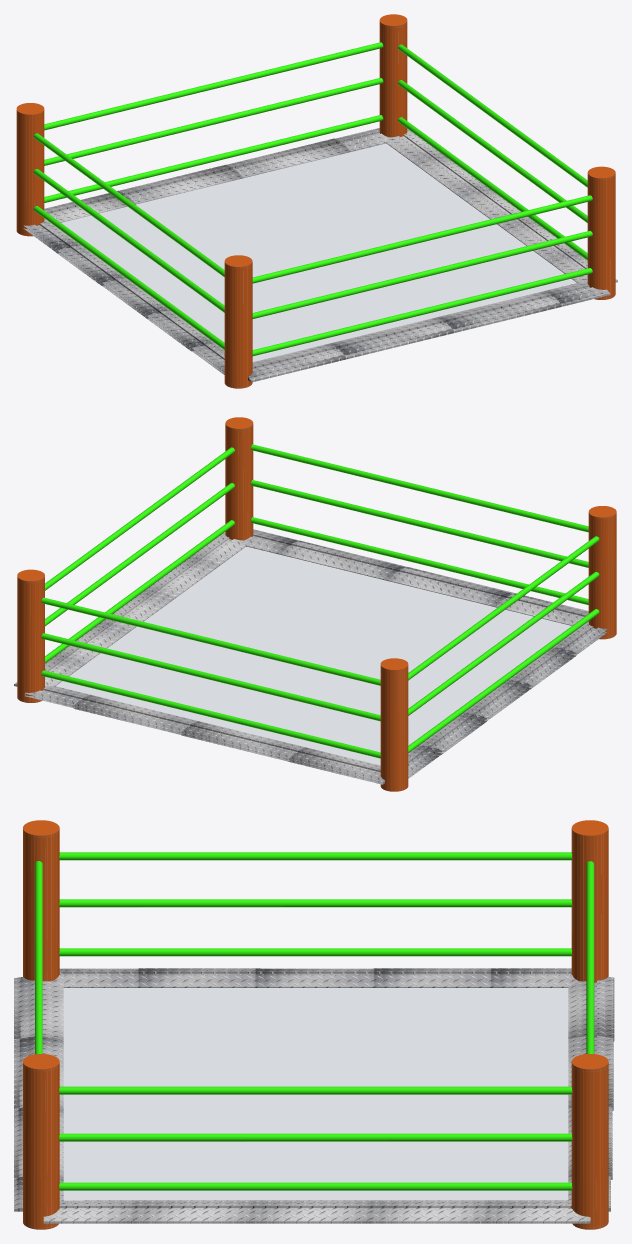
File: Ring2.0.fbx
The picture shows the model from 3 angles, top to bottom: view 1: azimuth 30°, elevation 25°; view 2: azimuth 150°, elevation 25°; view 3: azimuth 270°, elevation 25°; orthographic projection. The views are drawn at different scales.
Parts seen in each view (by area): view 1: Cube, Cube.003, Cylinder.007, Cylinder.001; view 2: Cube, Cube.003, Cylinder.007, Cylinder.001; view 3: Cube, Cube.003, Cylinder.007, Cylinder.001.
Boxes of the visible parts, x1,y1,x2,y2 form: Cube: (61, 143, 576, 361); Cube.003: (23, 128, 617, 382); Cylinder.007: (33, 42, 592, 356); Cylinder.001: (16, 14, 615, 388); Cube: (56, 546, 571, 765); Cube.003: (14, 529, 608, 784); Cylinder.007: (41, 444, 599, 758); Cylinder.001: (17, 417, 616, 791); Cube: (63, 988, 568, 1200); Cube.003: (14, 968, 614, 1223); Cylinder.007: (35, 852, 594, 1190); Cylinder.001: (23, 820, 608, 1229).
Bounding box in the file's own units: 221 × 64.75 × 221.
